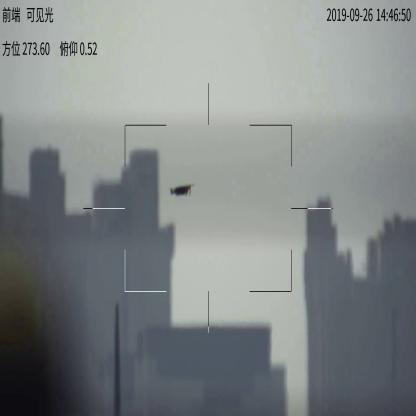uav: (166, 181, 196, 199)
